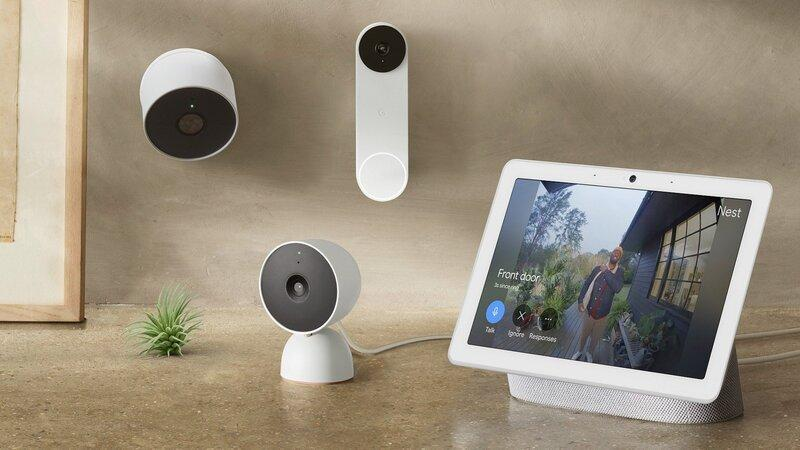doorbell: (344, 19, 415, 203)
nest: (257, 233, 366, 389), (129, 40, 245, 170)
